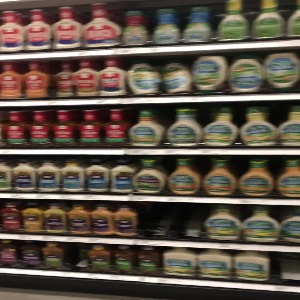void: (138, 198, 206, 242), (269, 250, 300, 287), (62, 243, 89, 272)
